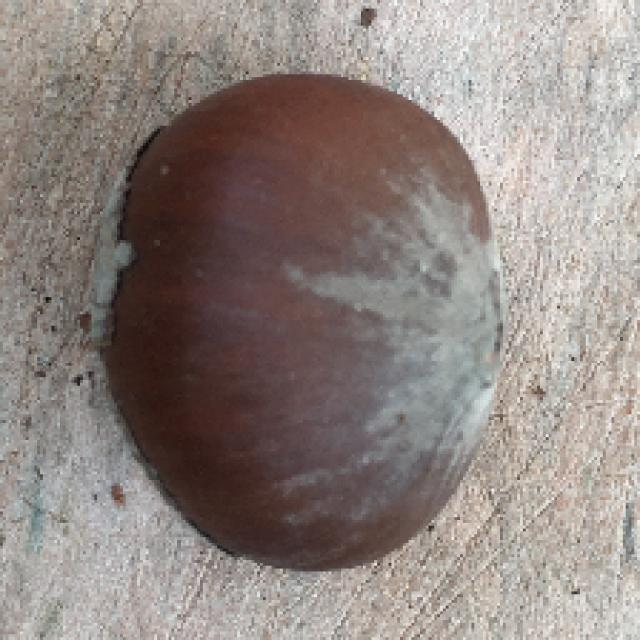damagedHazelnut: (84, 65, 515, 573)
